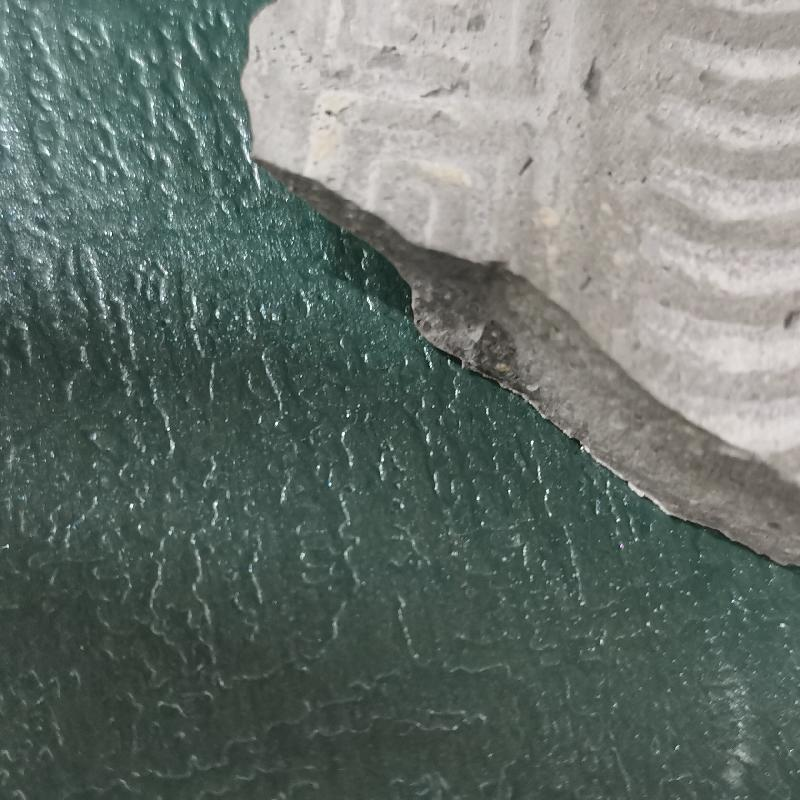tile: (203, 18, 799, 581)
